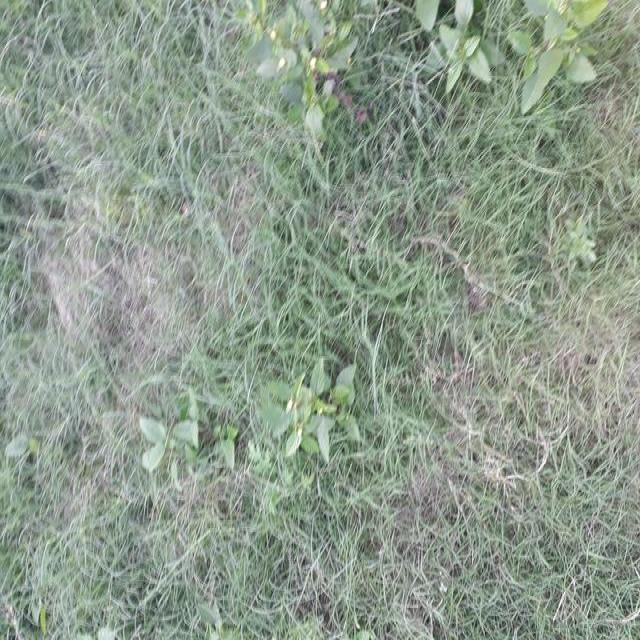weed: (406, 0, 624, 86), (251, 359, 384, 489), (252, 10, 359, 130), (130, 420, 218, 493)
